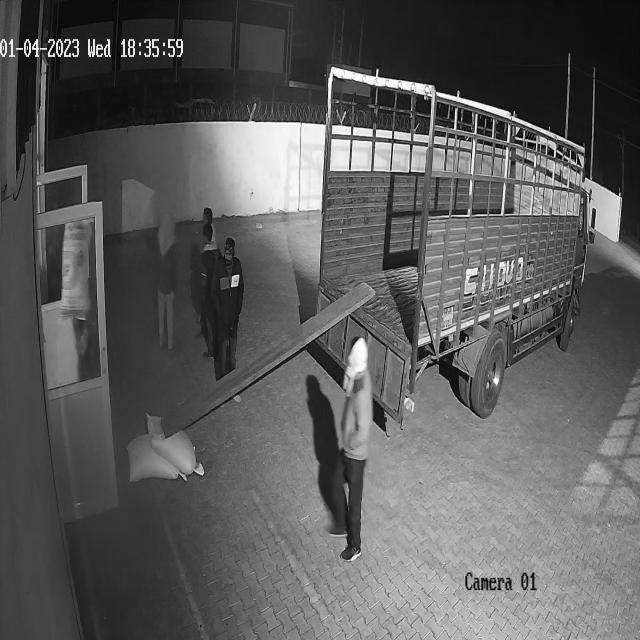sack: (145, 412, 204, 476), (60, 220, 92, 323), (126, 432, 187, 480)
